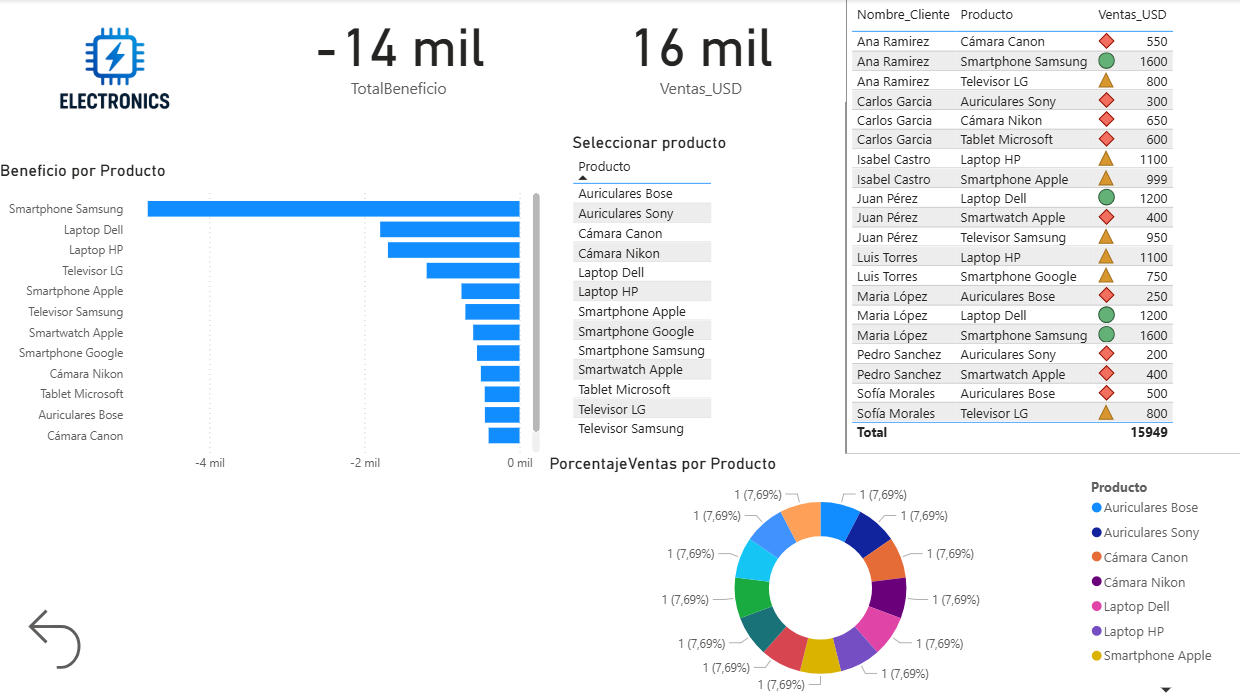

Layout of this report page (visuals, bound fields, positions):
{"tool":"powerbi","page":{"name":"Página 2","canvas":[1280,720],"ordinal":1},"visuals":[{"type":"image","box":[47.1,0,152.7,149.5],"z":0},{"type":"card","fields":{"Values":["Medidas.TotalBeneficio"]},"box":[264.9,0,297.3,105.6],"z":1},{"type":"barChart","fields":{"Category":["PRODUCTOS.Producto"],"Y":["Sum(VENTAS_ELECTRONICA.Beneficio)"]},"box":[0,165.7,563,327.4],"z":2},{"type":"tableEx","fields":{"Values":["CLIENTES.Nombre_Cliente","VENTAS_ELECTRONICA.Producto","Sum(VENTAS_ELECTRONICA.Ventas_USD)"]},"box":[870.9,0,409.5,466.3],"z":3},{"type":"donutChart","fields":{"Category":["PRODUCTOS.Producto"],"Y":["Medidas.PorcentajeVentas"]},"box":[563,465.7,716.4,254.8],"z":4},{"type":"tableEx","title":"Seleccionar producto","fields":{"Values":["PRODUCTOS.Producto"]},"box":[586.6,136.5,253.5,329.8],"z":5},{"type":"card","fields":{"Values":["Sum(VENTAS_ELECTRONICA.Ventas_USD)"]},"box":[573.6,0,297.3,105.6],"z":6},{"type":"actionButton","box":[22.7,617.4,89.4,76.4],"z":7}]}

Visuals, with their boxes in screenshot pixels (x1, y1, x2, y2), scaled from the page's 1280x720 canvas onto the 1240x695 screenshot:
image: x1=46, y1=0, x2=194, y2=144
card - Medidas.TotalBeneficio: x1=257, y1=0, x2=545, y2=102
barChart - PRODUCTOS.Producto x Sum(VENTAS_ELECTRONICA.Beneficio): x1=0, y1=160, x2=545, y2=476
tableEx - CLIENTES.Nombre_Cliente x VENTAS_ELECTRONICA.Producto: x1=844, y1=0, x2=1239, y2=450
donutChart - PRODUCTOS.Producto x Medidas.PorcentajeVentas: x1=545, y1=450, x2=1239, y2=694
"Seleccionar producto" tableEx: x1=568, y1=132, x2=814, y2=450
card - Sum(VENTAS_ELECTRONICA.Ventas_USD): x1=556, y1=0, x2=844, y2=102
actionButton: x1=22, y1=596, x2=109, y2=670
